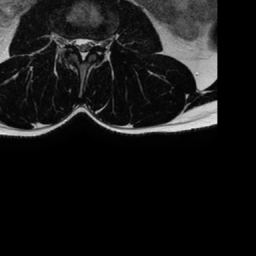CCS_normal: (80, 30, 87, 68)
LFS_stenosis: (94, 31, 103, 54)
LLS_stenosis: (87, 30, 94, 57)
RFS_normal: (64, 29, 72, 54)
RLS_normal: (72, 30, 80, 57)
